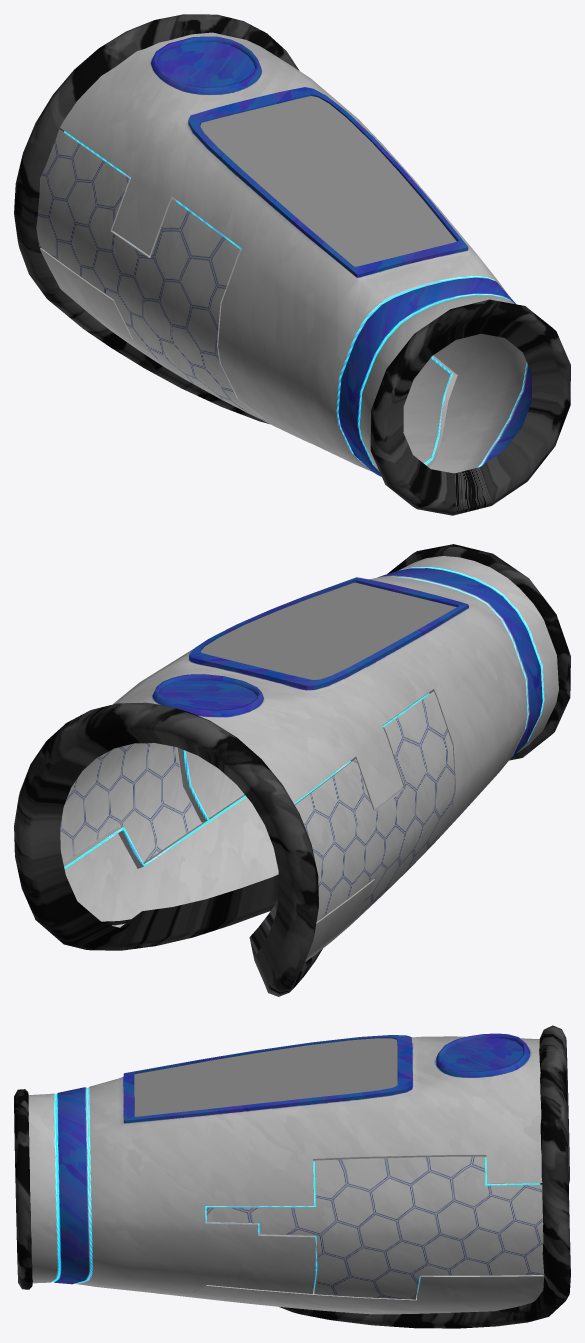
Rendered from Brassard.fbx.
3 renders of one model, top to bottom at view 1: azimuth 30°, elevation 25°; view 2: azimuth 150°, elevation 25°; view 3: azimuth 270°, elevation 25°, orthographic. The views are drawn at different scales.
Visible parts, largest first — view 1: Brassard, Brassard_Ecran; view 2: Brassard, Brassard_Ecran; view 3: Brassard, Brassard_Ecran.
Boxes of the visible parts, x1,y1,x2,y2 form: Brassard: [14, 14, 570, 515]; Brassard_Ecran: [200, 96, 456, 266]; Brassard: [14, 544, 570, 996]; Brassard_Ecran: [201, 582, 456, 679]; Brassard: [14, 1025, 570, 1328]; Brassard_Ecran: [134, 1038, 397, 1116].
Size of the model in its own units: 6.79 by 6.56 by 12.43.
